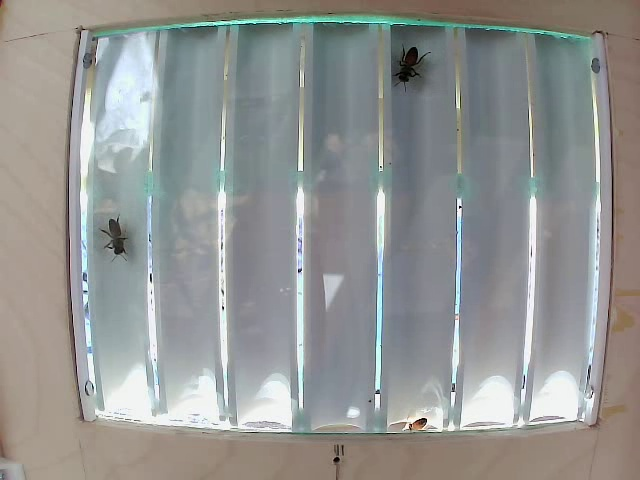bee: (390, 33, 429, 88), (103, 215, 135, 259)
